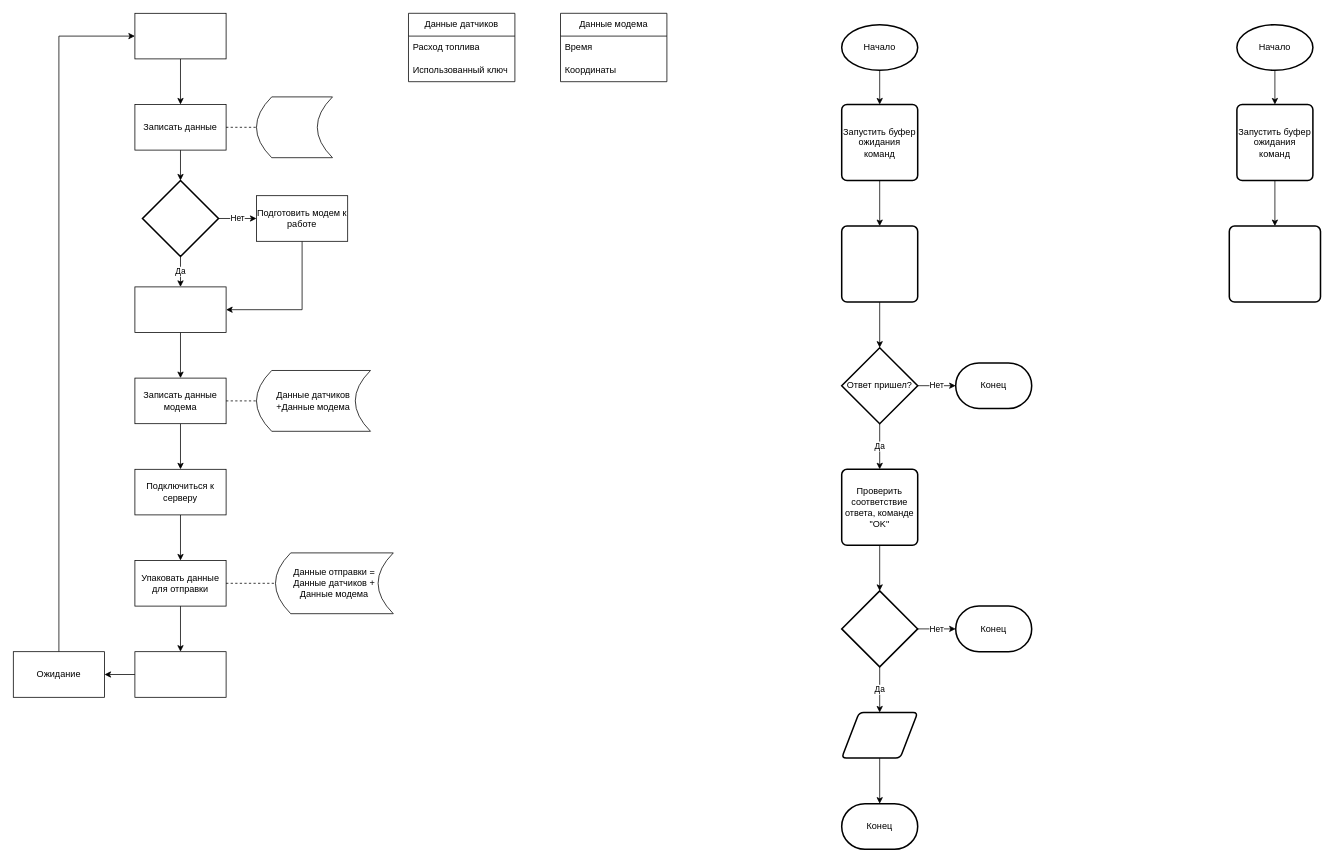
Some shapes in this 1335 by 863 pixel diagram are drawn without their labels. Here are the shapes that lost their labels. From the top down, the centre of each, then its label:
pixel 180 36: Опросить датчики
pixel 294 127: +Данные датчиков
pixel 180 218: Модем работает?
pixel 879 263: Отправить команду "AT\n"
pixel 1274 263: Отправить "AT+CGNSPWR=1"
pixel 180 309: Получить данные модема
pixel 879 628: Ответ соответствует?
pixel 180 674: Отправить данные на сервер
pixel 879 734: Модем запущен и работает
